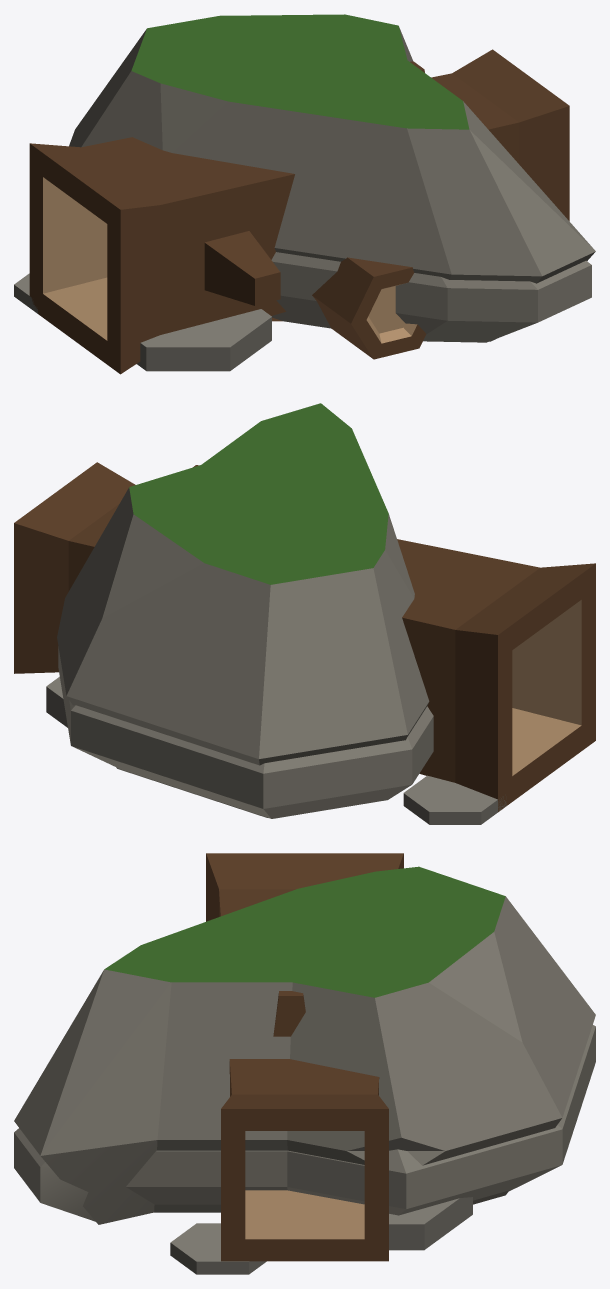
The model's file is bosque.glb.
3 views of the same model, one above another, from view 1: azimuth 30°, elevation 25°; view 2: azimuth 150°, elevation 25°; view 3: azimuth 270°, elevation 25° (orthographic). The views are drawn at different scales.
Visible parts, largest first — view 1: rock_largeB, log_large, rock_largeA, log, path_stone; view 2: rock_largeB, log_large, rock_largeA, path_stone; view 3: rock_largeB, log_large, rock_largeA, path_stone.
Part boxes in pixels (x1=…): rock_largeB: x1=69, y1=14, x2=595, y2=341; log_large: x1=29, y1=49, x2=569, y2=374; rock_largeA: x1=271, y1=252, x2=591, y2=342; log: x1=312, y1=257, x2=426, y2=359; path_stone: x1=14, y1=273, x2=271, y2=371; rock_largeB: x1=57, y1=403, x2=429, y2=817; log_large: x1=14, y1=462, x2=595, y2=811; rock_largeA: x1=58, y1=646, x2=433, y2=818; path_stone: x1=46, y1=676, x2=506, y2=824; rock_largeB: x1=14, y1=866, x2=595, y2=1224; log_large: x1=206, y1=853, x2=403, y2=1261; rock_largeA: x1=14, y1=1025, x2=595, y2=1221; path_stone: x1=170, y1=1197, x2=472, y2=1274.
Bounding box in the file's own units: 1 × 0.4303 × 1.02.
